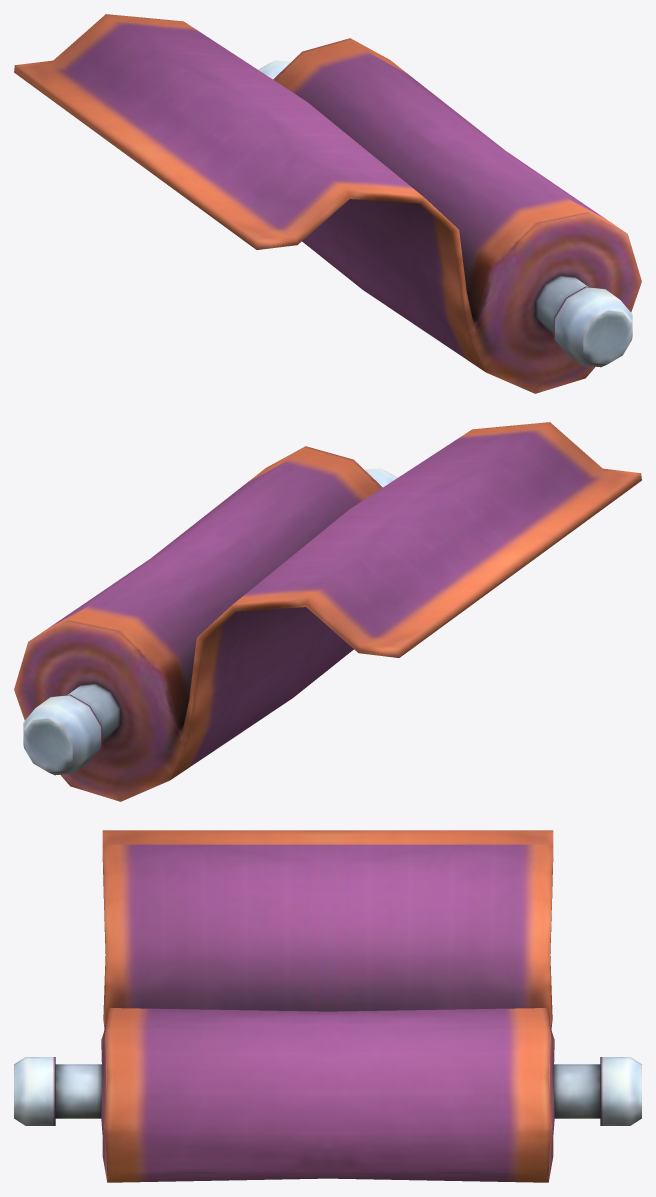
Rendered from Silk.glb.
3 renders of one model, top to bottom at view 1: azimuth 30°, elevation 25°; view 2: azimuth 150°, elevation 25°; view 3: azimuth 270°, elevation 25°, orthographic. The views are drawn at different scales.
Parts seen in each view (by area): view 1: low; view 2: low; view 3: low.
Boxes of the visible parts, box(x1,y1,x2,y2) form: low: box(14, 14, 641, 393); low: box(14, 422, 641, 801); low: box(14, 830, 641, 1182).
Bounding box in the file's own units: 3.3 × 2.08 × 4.99.
1 material, 1 textured.
